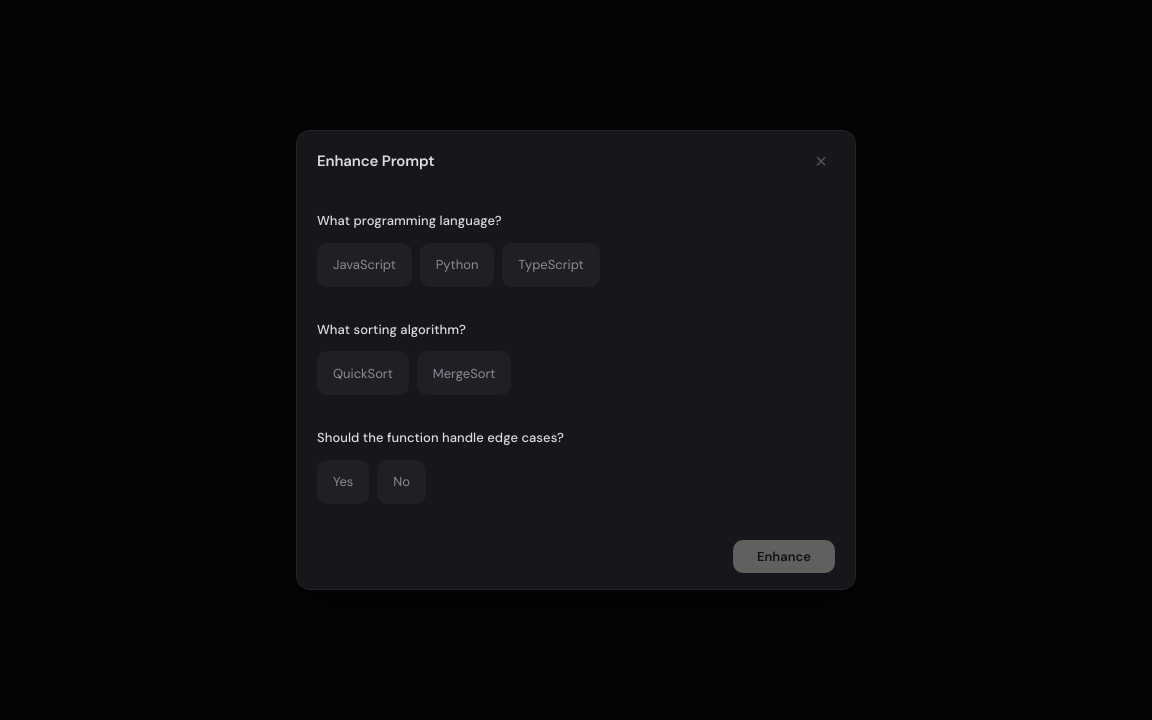
it: PromptEnhanceModal › copy button copies to clipboard
Expected: the text "What programming language?" is shown, [317, 212, 502, 229]
Click the button "TypeScript" at point(551, 265), box [502, 243, 600, 287]
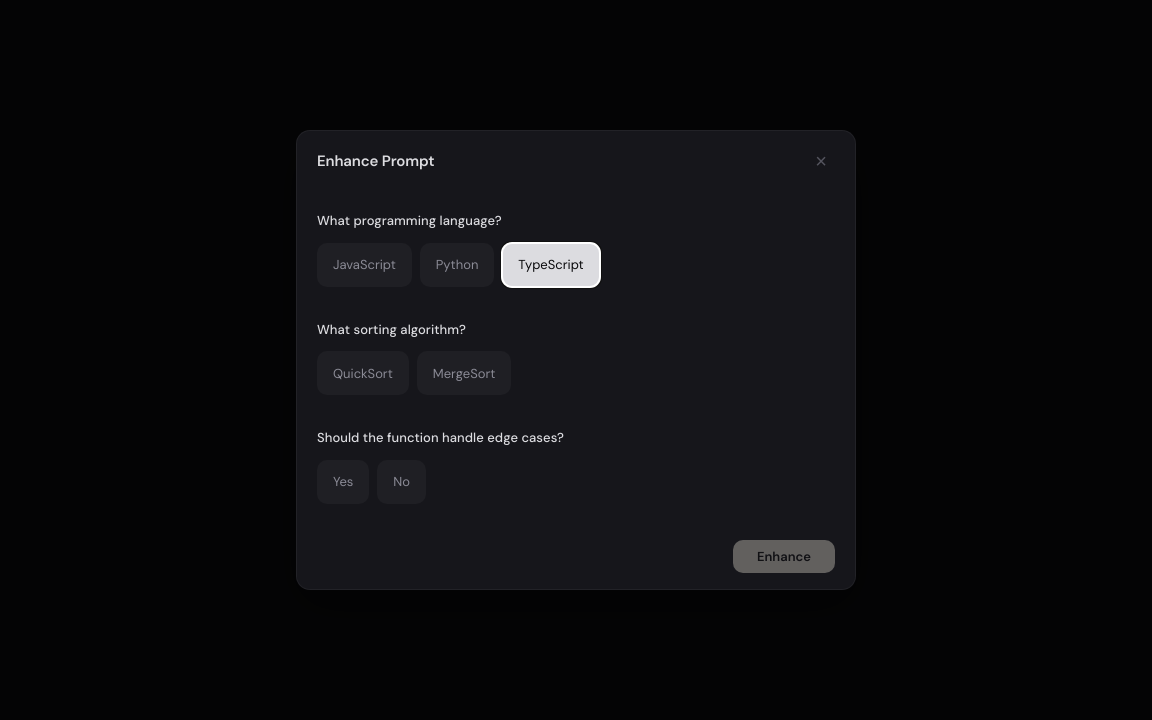
Click the button "QuickSort" at point(363, 373), box [317, 351, 409, 395]
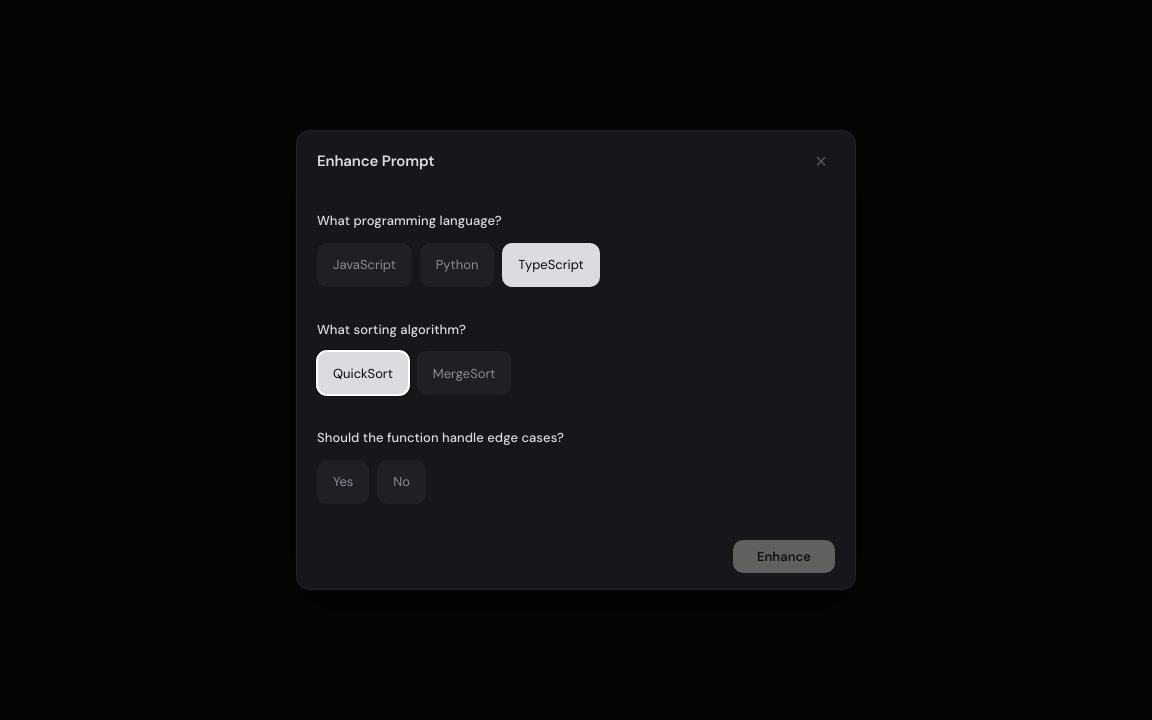
Click the button "Yes" at point(343, 482), box [317, 460, 369, 504]
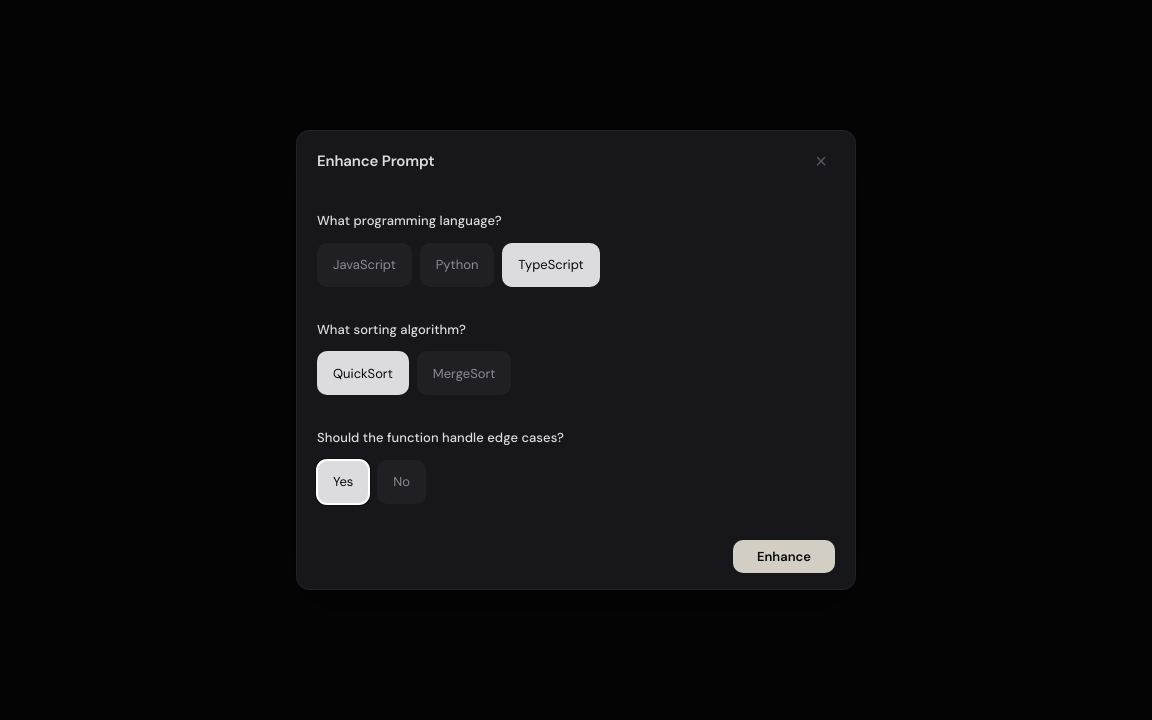
Click the button "Enhance" at point(784, 556), box [733, 540, 835, 573]
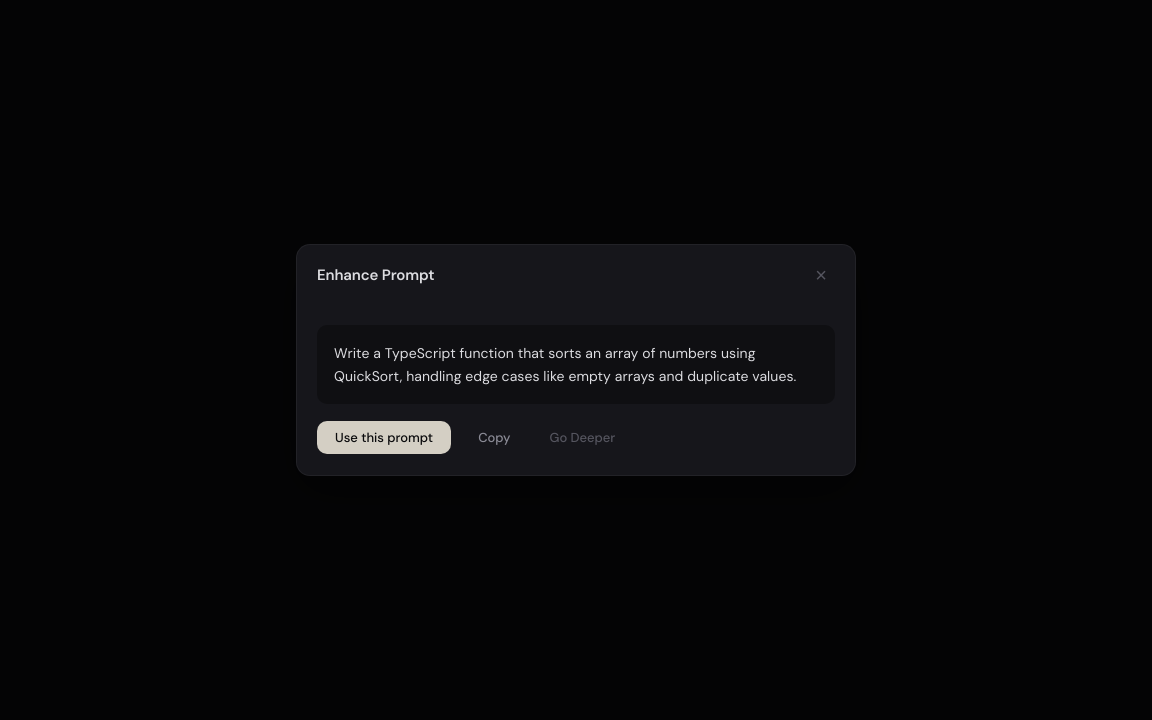
Expected: the button "Copy" is shown
Click the button "Copy" at point(494, 437), box [461, 420, 527, 455]
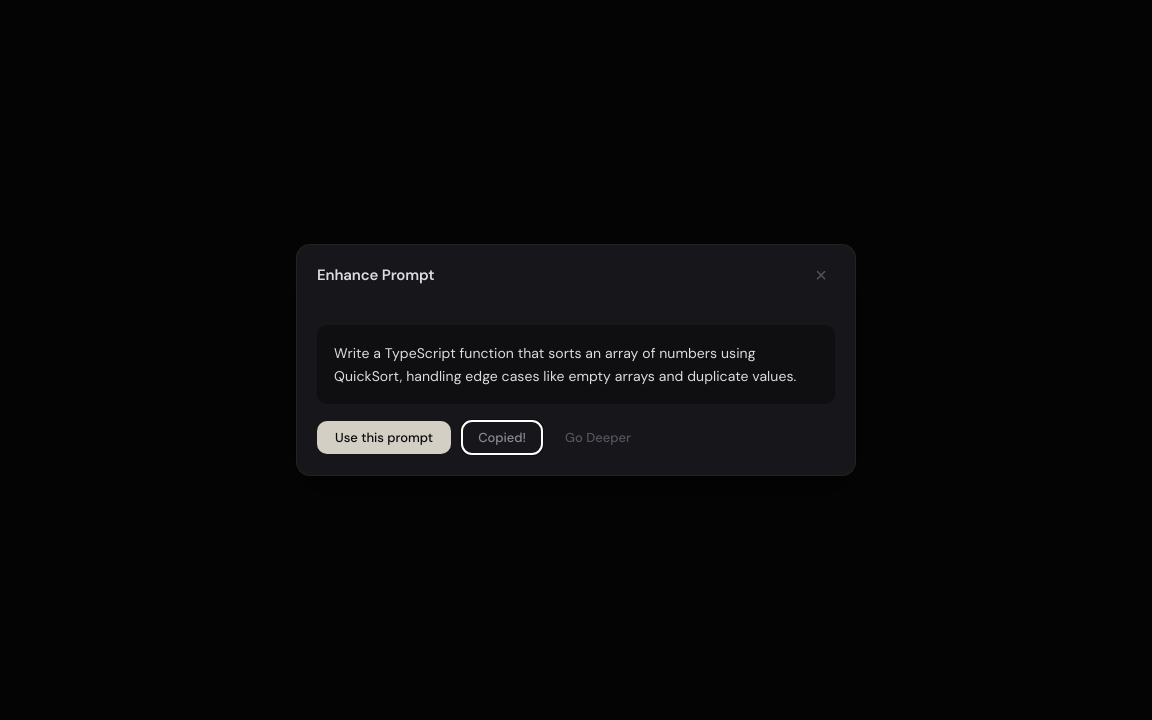
Expected: the button "Copied!" is shown, [461, 420, 543, 455]
